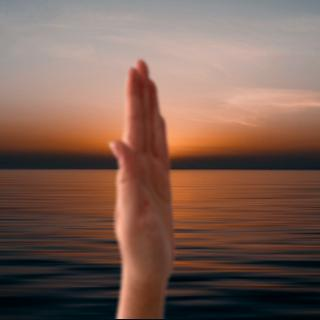Right: (98, 54, 191, 290)
